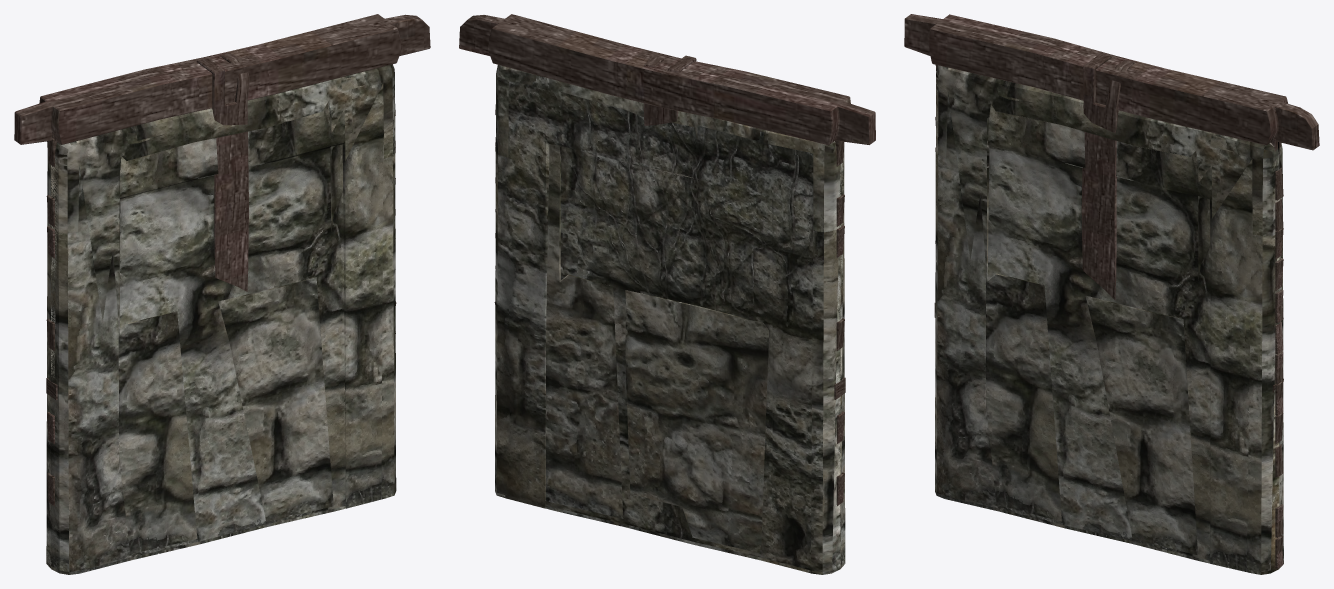
File: AssetPack_1x.FBX
The picture shows the model from 3 angles, left to right: view 1: azimuth 30°, elevation 25°; view 2: azimuth 150°, elevation 25°; view 3: azimuth 330°, elevation 25°; orthographic projection.
Parts seen in each view (by area): view 1: rock-wall-high, rock-wall-high-window, rock-wall-high-door, crossbeam_W1x, hightbeam; view 2: rock-wall-high-window, rock-wall-high, rock-wall-high-door, crossbeam_W1x, hightbeam; view 3: rock-wall-high, rock-wall-high-window, rock-wall-high-door, crossbeam_W1x, hightbeam.
Boxes of the visible parts, x1,y1,x2,y2 form: rock-wall-high: [46, 102, 396, 571]; rock-wall-high-window: [47, 64, 396, 574]; rock-wall-high-door: [46, 76, 385, 572]; crossbeam_W1x: [14, 14, 430, 144]; hightbeam: [196, 52, 249, 291]; rock-wall-high-window: [495, 65, 844, 574]; rock-wall-high: [495, 91, 845, 571]; rock-wall-high-door: [495, 76, 845, 574]; crossbeam_W1x: [459, 14, 875, 145]; hightbeam: [643, 55, 696, 125]; rock-wall-high: [935, 92, 1283, 571]; rock-wall-high-window: [935, 65, 1283, 574]; rock-wall-high-door: [945, 84, 1281, 572]; crossbeam_W1x: [904, 14, 1319, 150]; hightbeam: [1081, 54, 1134, 300].
Bounding box in the file's own units: 24.13 × 26.17 × 2.41.
